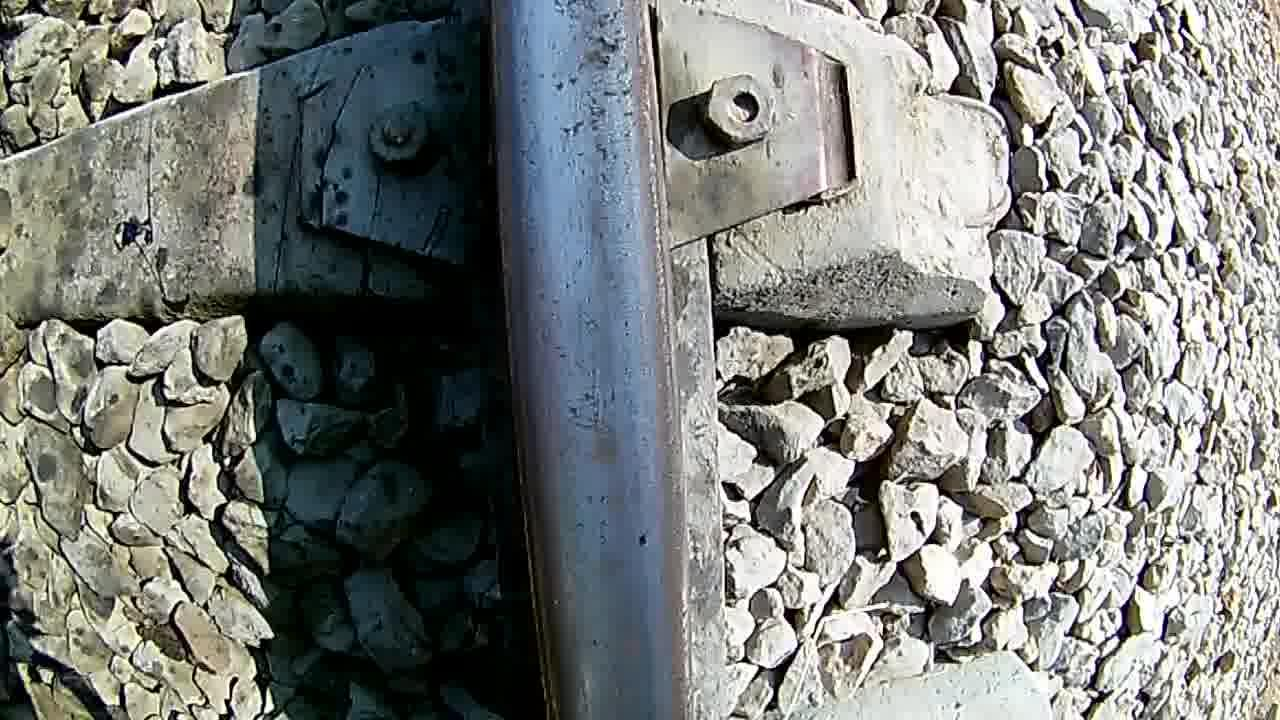crack: (493, 0, 686, 720)
